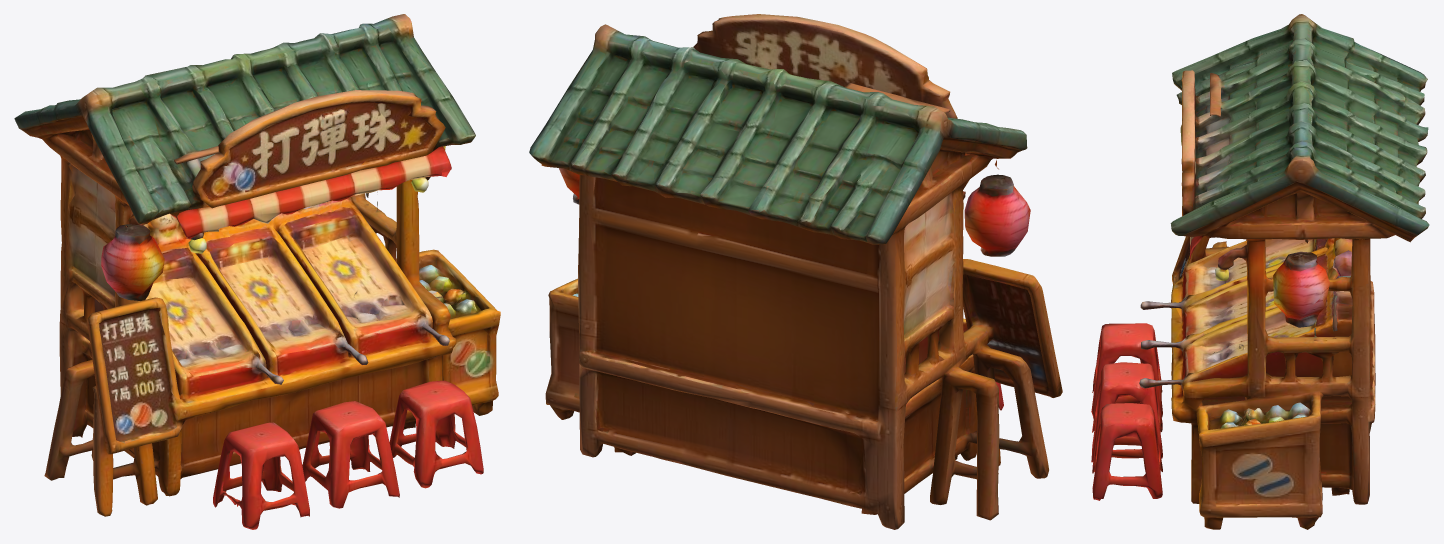
File: stall-pachinko.glb
The picture shows the model from 3 angles, left to right: view 1: azimuth 30°, elevation 25°; view 2: azimuth 150°, elevation 25°; view 3: azimuth 270°, elevation 25°; orthographic projection. The views are drawn at different scales.
Visible parts, largest first — view 1: tripo_node_6ee4b5d8-0822-4db2-b8ad-e27f1ab7f594; view 2: tripo_node_6ee4b5d8-0822-4db2-b8ad-e27f1ab7f594; view 3: tripo_node_6ee4b5d8-0822-4db2-b8ad-e27f1ab7f594.
Boxes of the visible parts, x1,y1,x2,y2 form: tripo_node_6ee4b5d8-0822-4db2-b8ad-e27f1ab7f594: [14, 14, 500, 529]; tripo_node_6ee4b5d8-0822-4db2-b8ad-e27f1ab7f594: [529, 14, 1062, 529]; tripo_node_6ee4b5d8-0822-4db2-b8ad-e27f1ab7f594: [1091, 14, 1429, 529].
Bounding box in the file's own units: 0.9932 × 0.8767 × 0.7532.
1 material, 1 textured.
